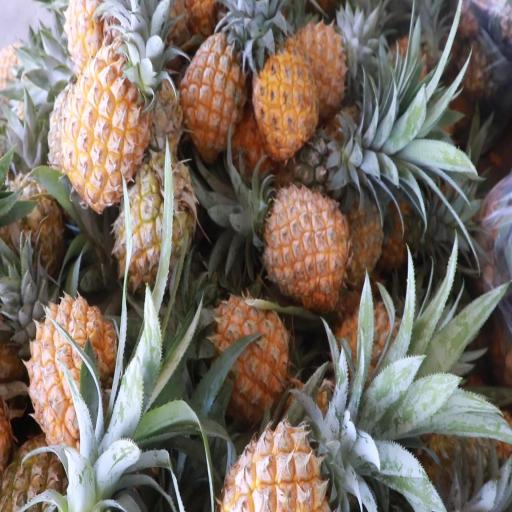------------------------------: (117, 164, 194, 294)
Pineapple - v8 v1: (65, 49, 151, 207), (33, 293, 117, 448), (220, 416, 332, 512), (264, 188, 348, 303), (208, 296, 290, 408), (179, 21, 248, 143), (255, 49, 320, 158)
